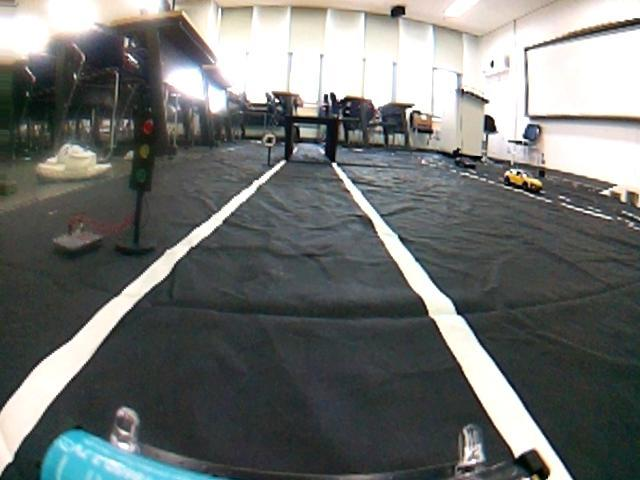red_light: (126, 99, 162, 196)
straight: (0, 251, 640, 480)
